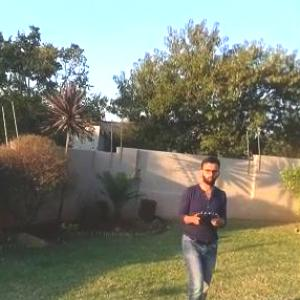follow: (177, 149, 234, 299)
